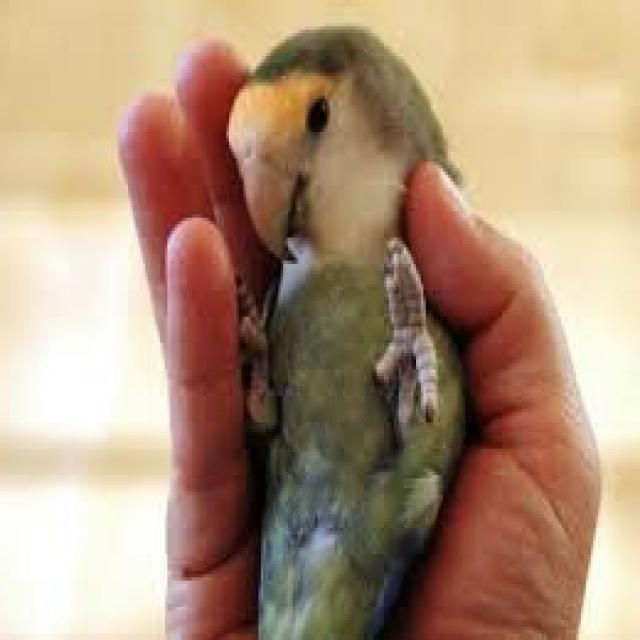parrot: (231, 26, 468, 637)
